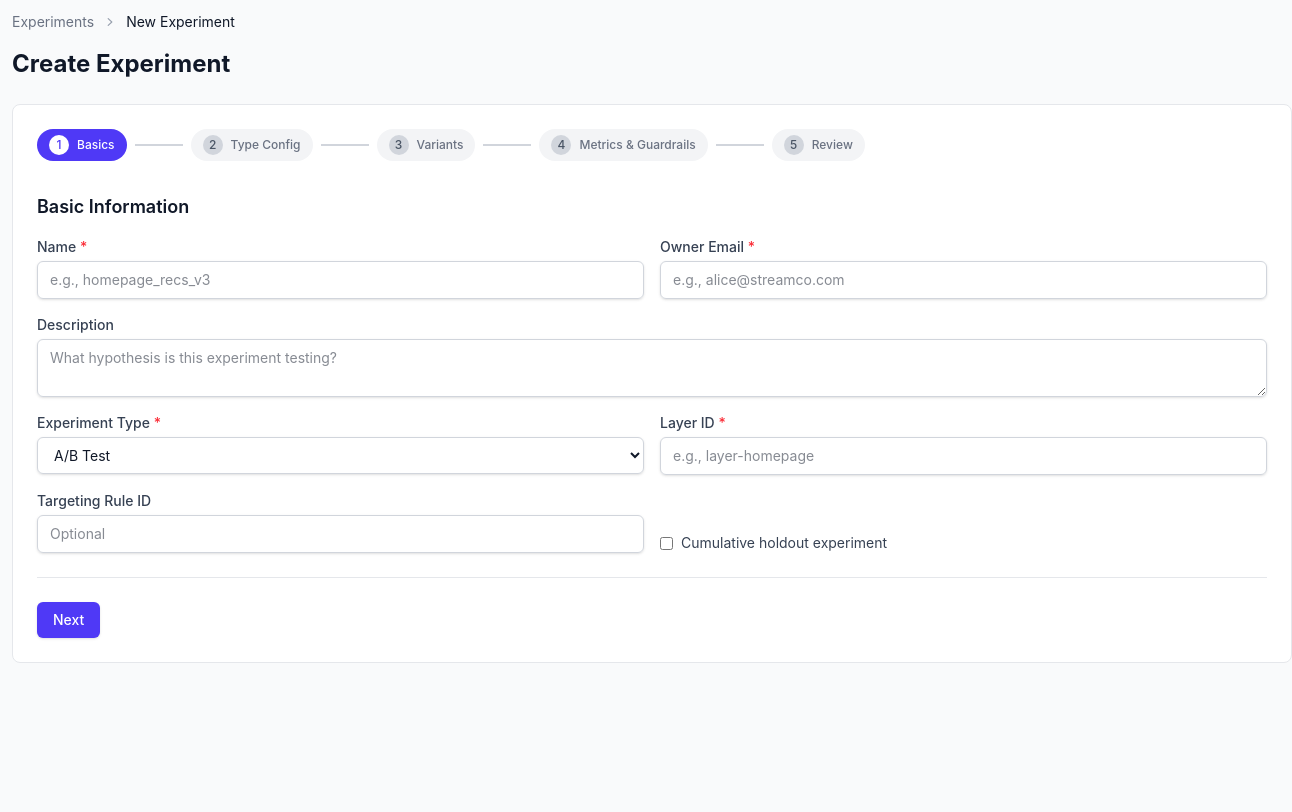
Scenario: Experiment Creation Wizard › announces when the traffic total no longer sums to 100%
The image size is (1292, 812).
Step 1. Type "my_experiment" into the field labelled "Name *" → (340, 280), box [37,261,644,299]
Step 2. Type "test@streamco.com" into the field labelled "Owner Email *" → (964, 280), box [660,261,1267,299]
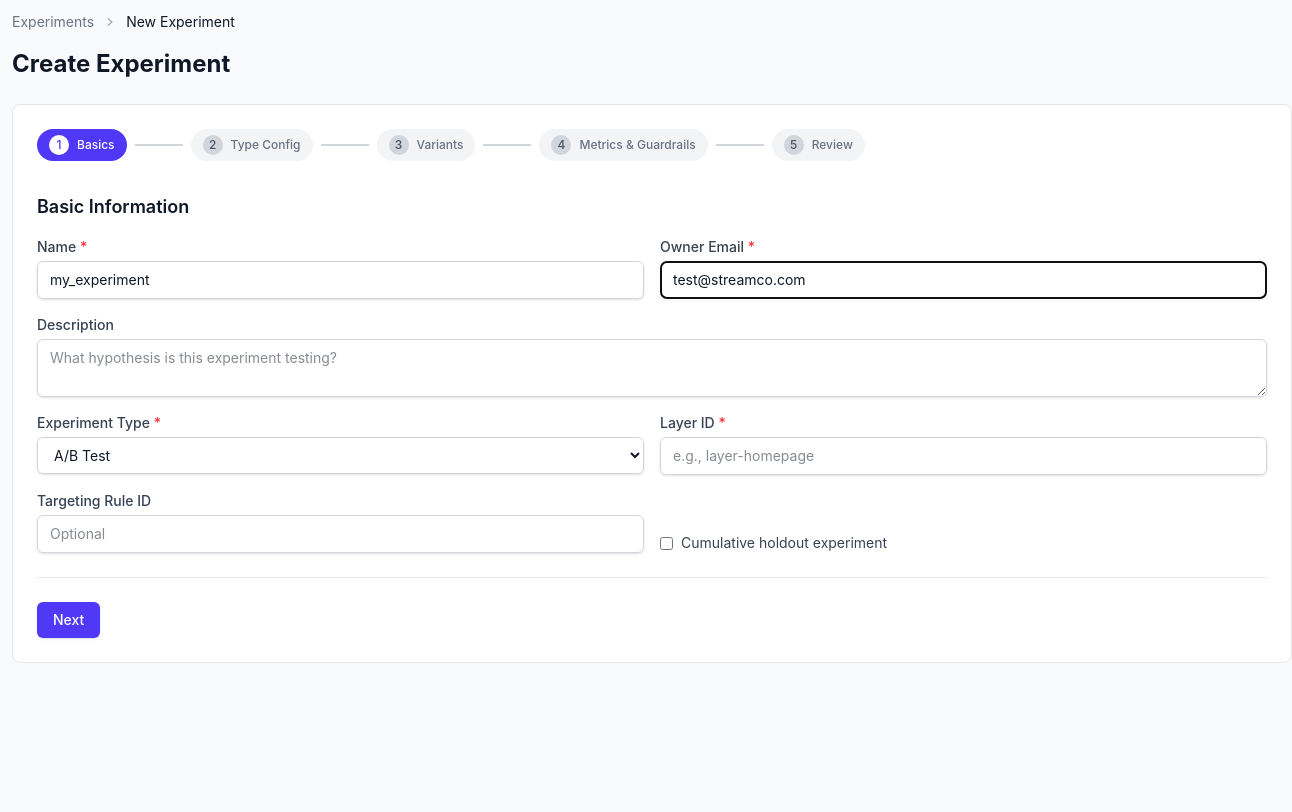
Step 3. Type "layer-test" into the field labelled "Layer ID *" → (964, 456), box [660,437,1267,475]
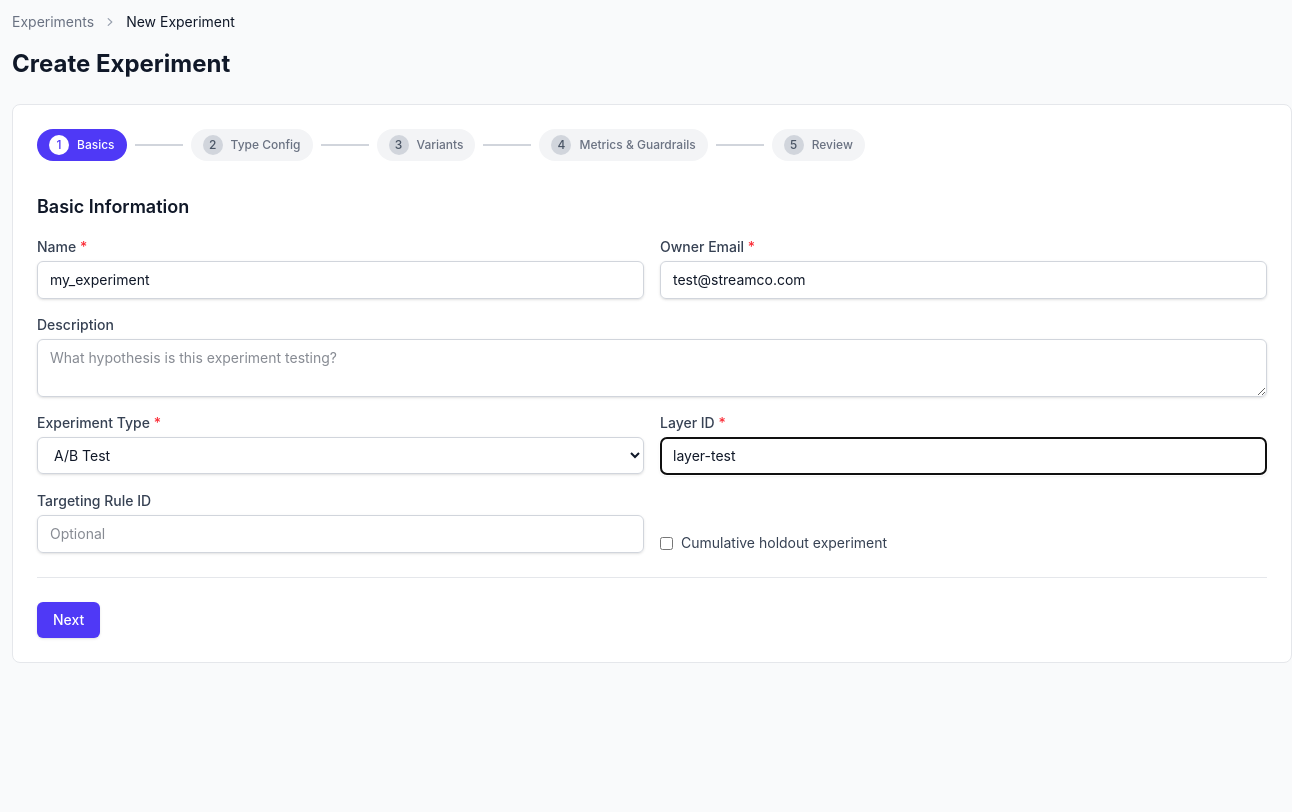
Step 4. Click the button "Next" → click(69, 620), box [37,602,100,638]
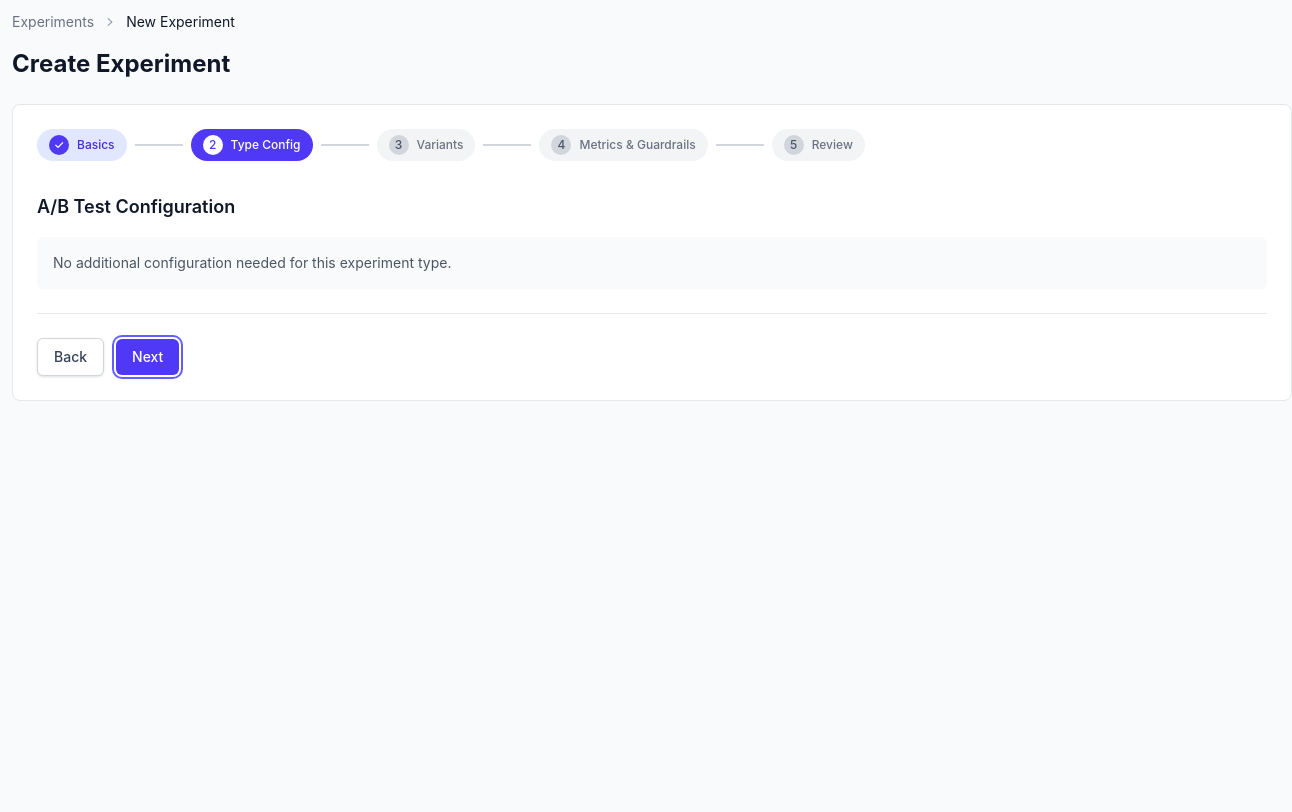
Step 5. Click the button "Next" → click(148, 357), box [116,339,179,375]
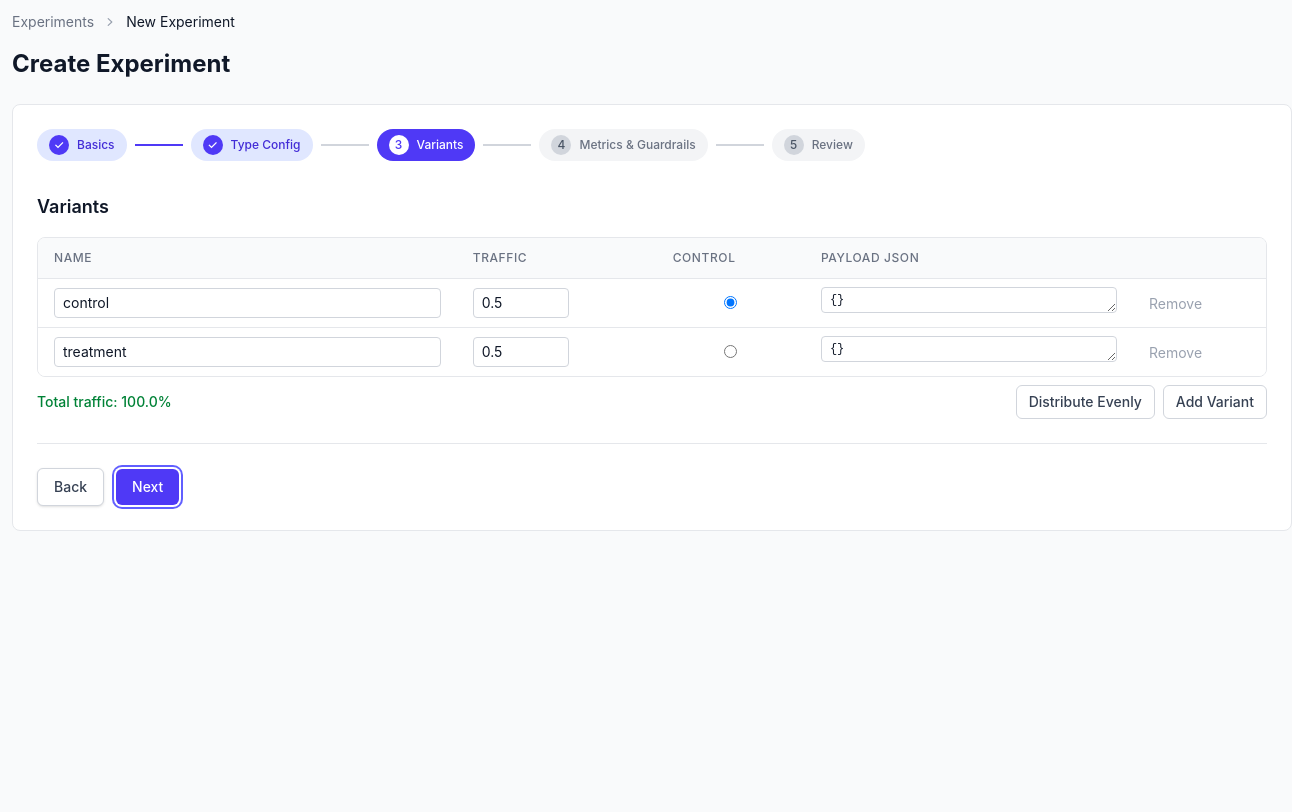
Step 6. Replace the text in the number field named "traffic" with "0.3" → (521, 303), box [473,288,569,318]
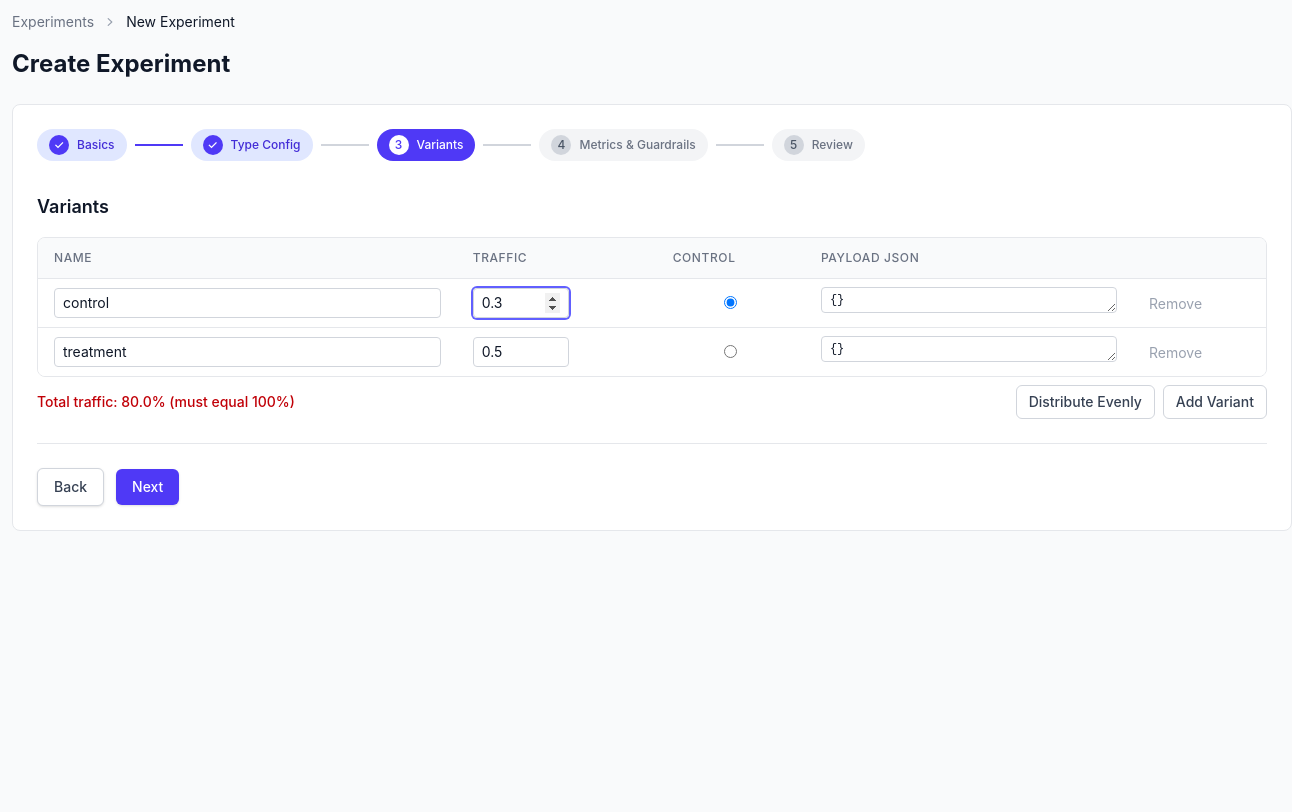
Expected: the text "Total traffic: 100.0%" reads "Total traffic: 80.0% (must equal 100%)", [37,392,295,412]
Step 7. Replace the text in the number field named "traffic" with "0.5" → (521, 303), box [473,288,569,318]
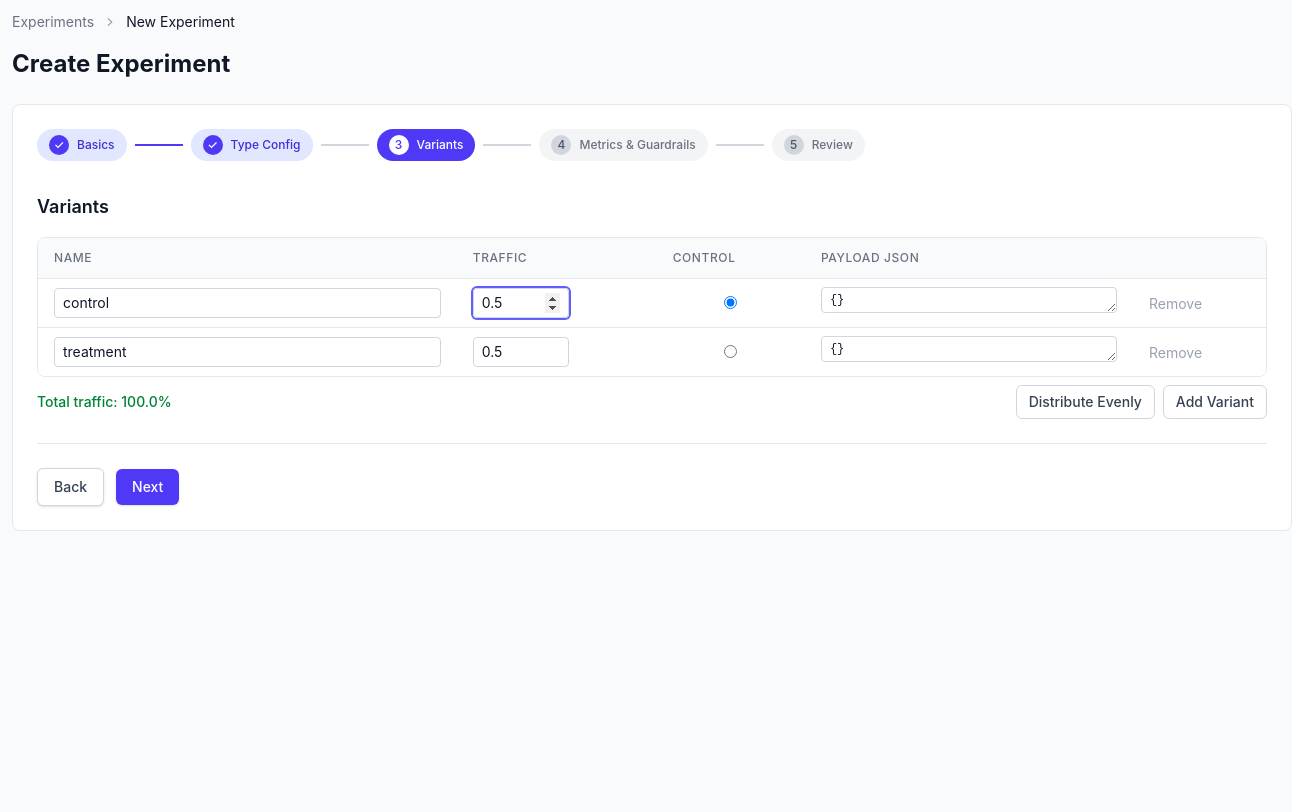
Expected: the text "Total traffic: 100.0%" is shown, [37,392,172,412]
Expected: the text "Total traffic: 100.0%" no longer shows "must equal", [37,392,172,412]
